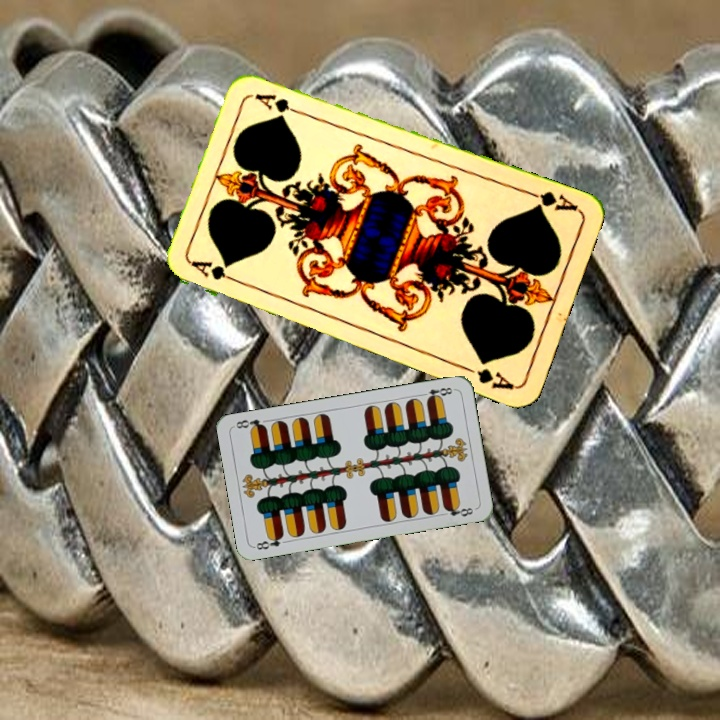E8: (417, 383, 457, 403), (252, 531, 286, 552)
GA: (188, 257, 245, 287), (523, 186, 581, 214)
